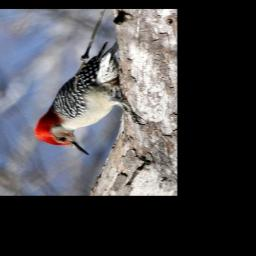Woodpecker: (29, 36, 154, 158)
